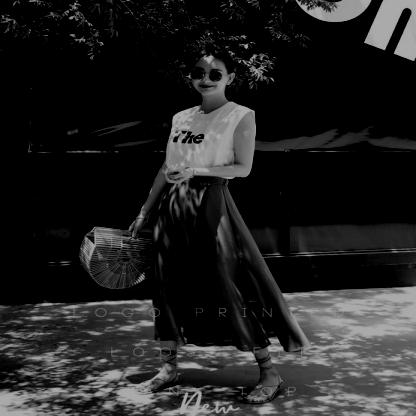dress: (155, 171, 305, 352)
jacket: (168, 102, 253, 179)
